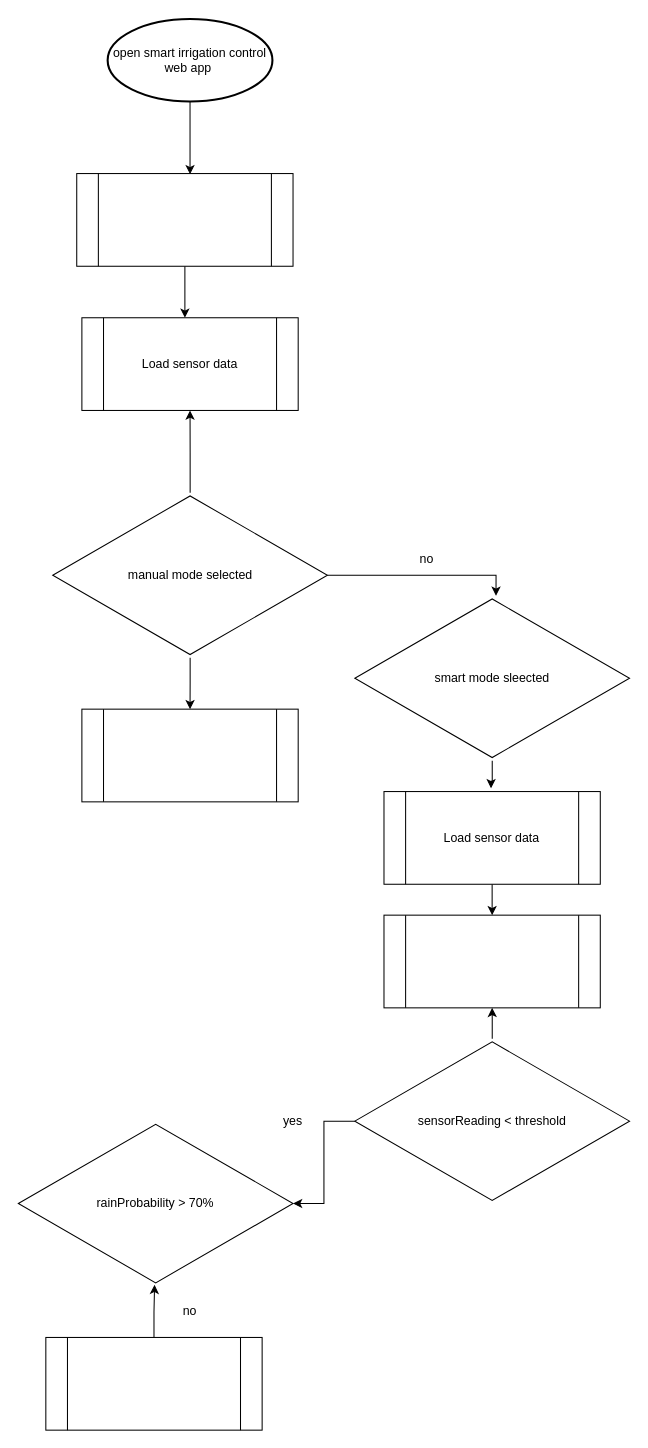
Image size: 648x1448. Some labels were removed from this diagram. Here are the shapes that lost their labels. From the top down, the centre of each, then its label:
(184,219): index.html (displays the main menu)
(189,755): enter watering cycle (days, start time, end time)
(491,961): load weather forecast
(153,1383): switch on valve
